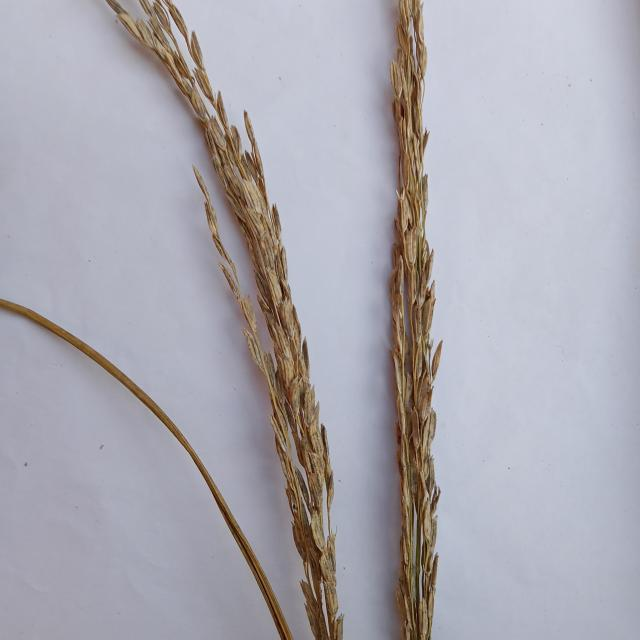Neck_Blast: (145, 3, 340, 640), (392, 12, 434, 639)
